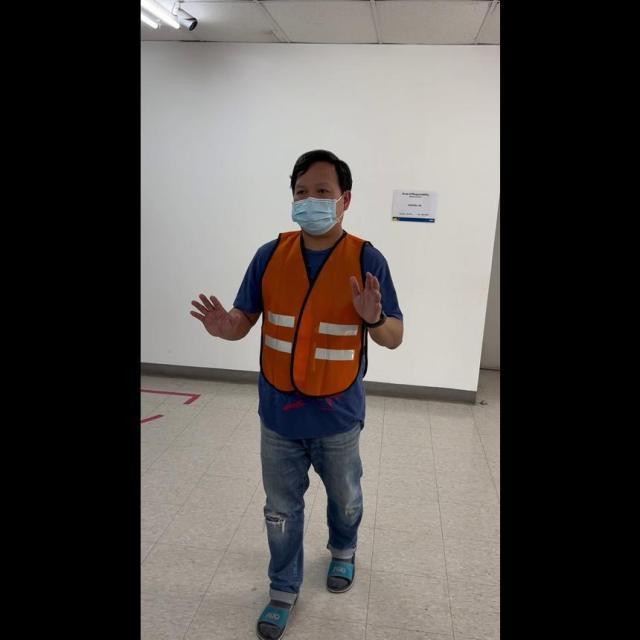bare_hand: (188, 288, 237, 339), (345, 266, 384, 327)
